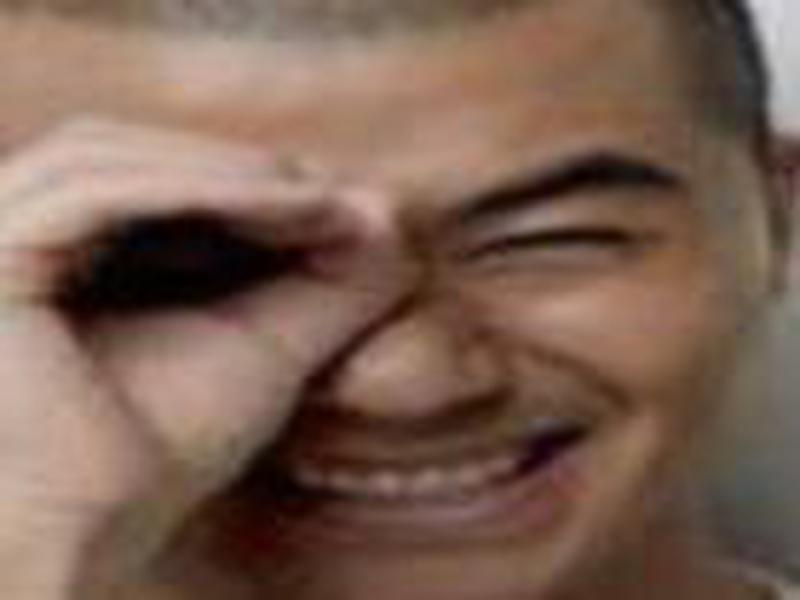without_mask: (10, 21, 749, 593)
